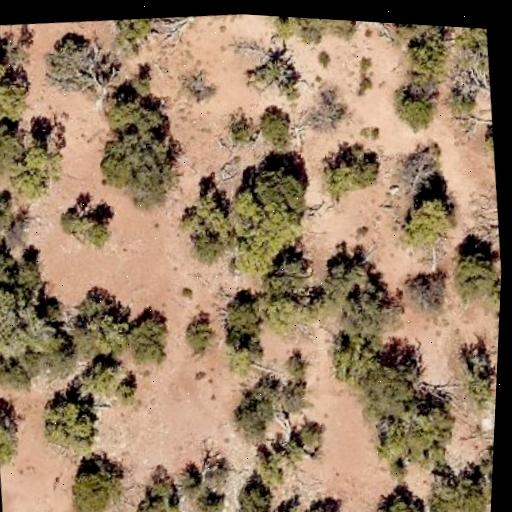tree-top: (89, 84, 187, 206), (214, 152, 312, 270), (366, 383, 460, 477), (59, 287, 134, 365), (352, 348, 431, 422), (330, 265, 400, 348), (34, 28, 108, 99), (36, 392, 105, 457), (396, 186, 460, 255), (2, 129, 65, 197), (225, 379, 287, 444), (320, 140, 386, 201), (396, 267, 459, 327), (63, 455, 129, 512), (400, 24, 458, 87), (447, 235, 503, 299), (122, 307, 177, 368), (326, 330, 382, 389), (426, 463, 493, 512), (0, 281, 48, 346), (264, 246, 321, 300), (169, 63, 226, 114), (253, 287, 306, 340), (238, 50, 296, 95), (392, 84, 437, 135), (69, 204, 117, 251), (135, 468, 184, 512), (0, 74, 40, 127), (251, 102, 295, 147), (199, 451, 244, 495), (184, 218, 225, 265), (290, 17, 361, 44), (5, 242, 44, 291), (0, 117, 33, 173), (369, 484, 432, 512), (222, 293, 264, 335), (110, 16, 160, 51), (223, 337, 263, 379), (0, 190, 30, 246), (180, 313, 219, 355), (252, 447, 289, 489), (84, 352, 124, 390), (130, 484, 183, 512), (234, 479, 277, 512), (292, 418, 329, 456), (54, 204, 93, 240), (276, 344, 312, 383), (0, 412, 25, 463), (222, 114, 257, 150), (111, 373, 146, 408), (464, 371, 497, 408), (36, 296, 68, 328), (455, 27, 489, 57), (0, 350, 27, 387), (445, 85, 476, 116), (195, 485, 227, 512), (0, 246, 20, 287), (0, 30, 12, 95), (304, 495, 349, 512), (0, 428, 20, 466), (272, 16, 303, 38), (157, 13, 208, 26), (0, 22, 35, 37), (494, 311, 500, 360), (484, 129, 495, 155)
